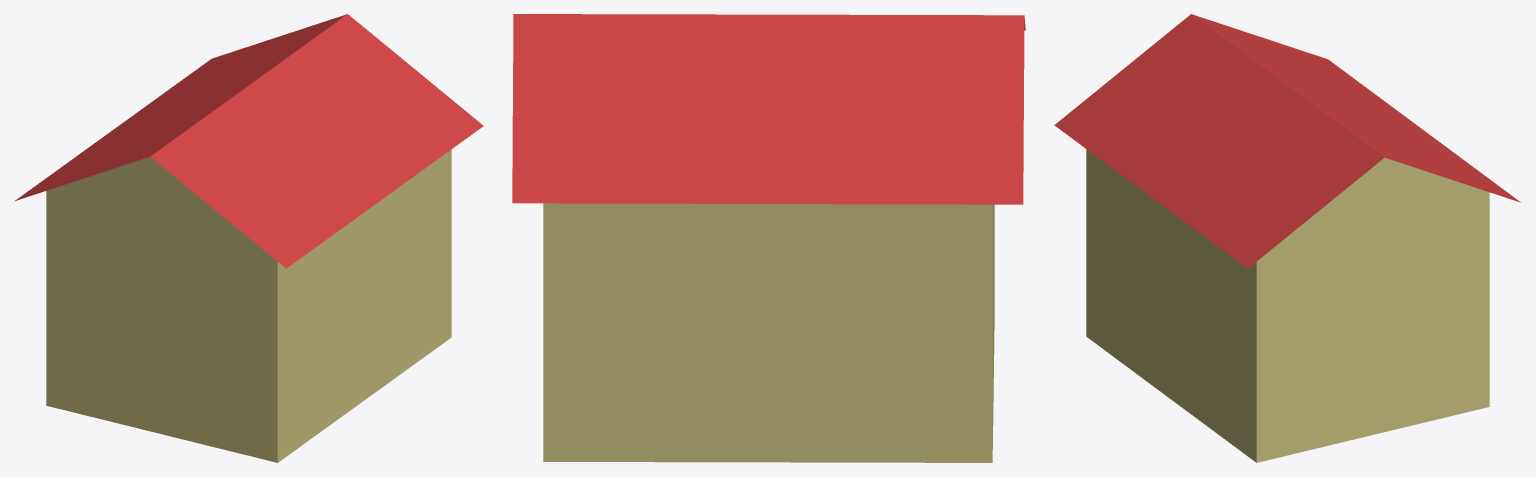
The picture shows the model from 3 angles, left to right: view 1: azimuth 30°, elevation 25°; view 2: azimuth 150°, elevation 25°; view 3: azimuth 270°, elevation 25°; orthographic projection. The views are drawn at different scales.
Bounding box in the file's own units: 21.02 × 19.81 × 13.38.
